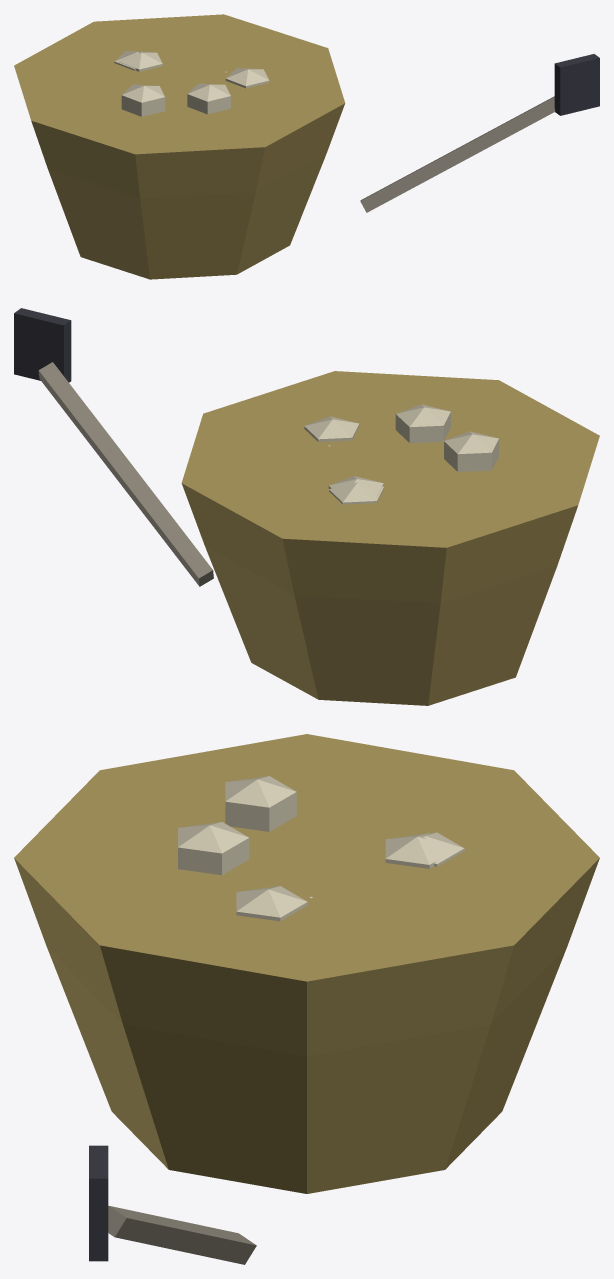
Rendered from a3h_clam_basket.glb.
3 renders of one model, top to bottom at view 1: azimuth 30°, elevation 25°; view 2: azimuth 150°, elevation 25°; view 3: azimuth 270°, elevation 25°, orthographic. The views are drawn at different scales.
Visible parts, largest first — view 1: a3h_clam_basket; view 2: a3h_clam_basket; view 3: a3h_clam_basket.
Boxes of the visible parts, x1,y1,x2,y2 form: a3h_clam_basket: (14, 14, 599, 279); a3h_clam_basket: (14, 308, 599, 705); a3h_clam_basket: (14, 734, 599, 1264).
Bounding box in the file's own units: 1.53 × 0.5126 × 0.9.
